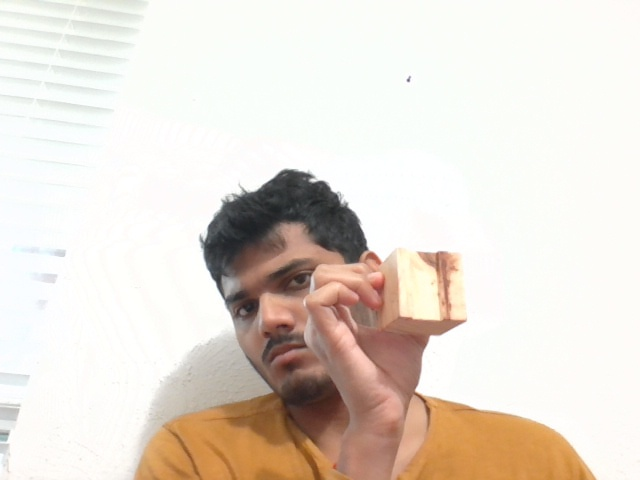NormalBlock: (380, 249, 467, 335)
